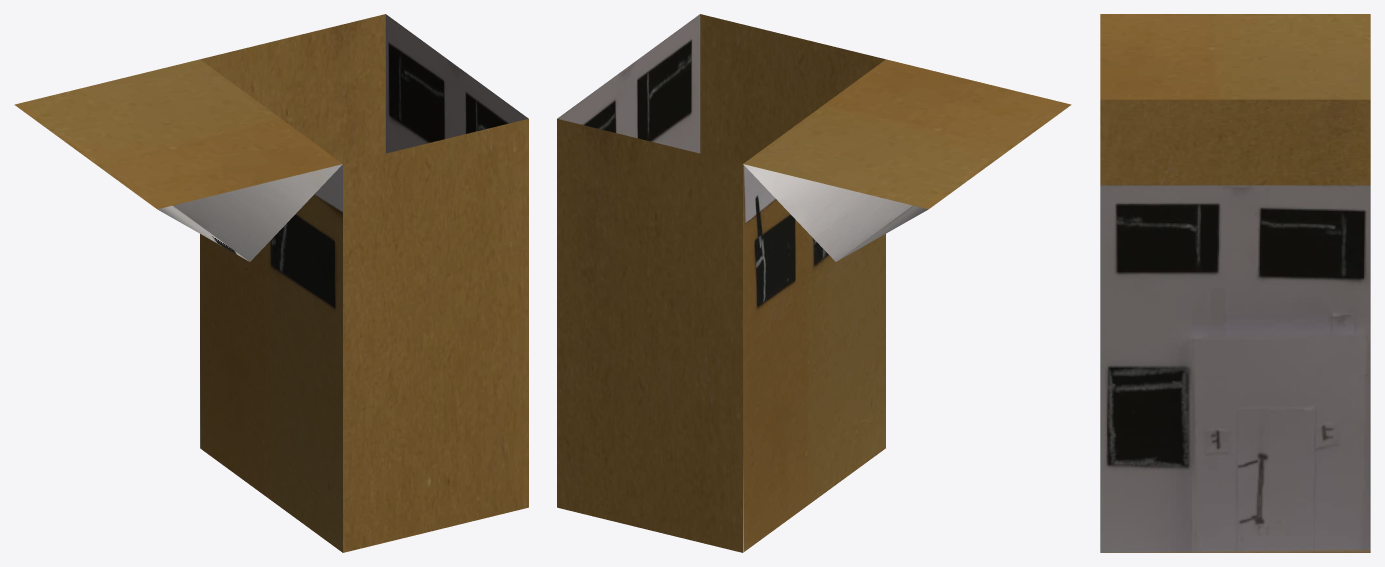
3 renders of one model, left to right at view 1: azimuth 30°, elevation 25°; view 2: azimuth 150°, elevation 25°; view 3: azimuth 270°, elevation 25°, orthographic. The views are drawn at different scales.
Visible parts, largest first — view 1: Cube, Cube.003, Cube.002; view 2: Cube, Cube.003, Cube.002; view 3: Cube, Cube.002, Cube.003.
Part boxes in pixels (x1,y1,x2,y2): Cube: [200, 118, 528, 552]; Cube.003: [14, 59, 342, 261]; Cube.002: [200, 14, 528, 163]; Cube: [557, 118, 885, 552]; Cube.003: [743, 59, 1071, 261]; Cube.002: [557, 14, 885, 163]; Cube: [1100, 185, 1370, 552]; Cube.002: [1100, 99, 1370, 185]; Cube.003: [1100, 14, 1370, 99].
Size of the model in its own units: 15 by 15 by 10.
1 material, 1 textured.
